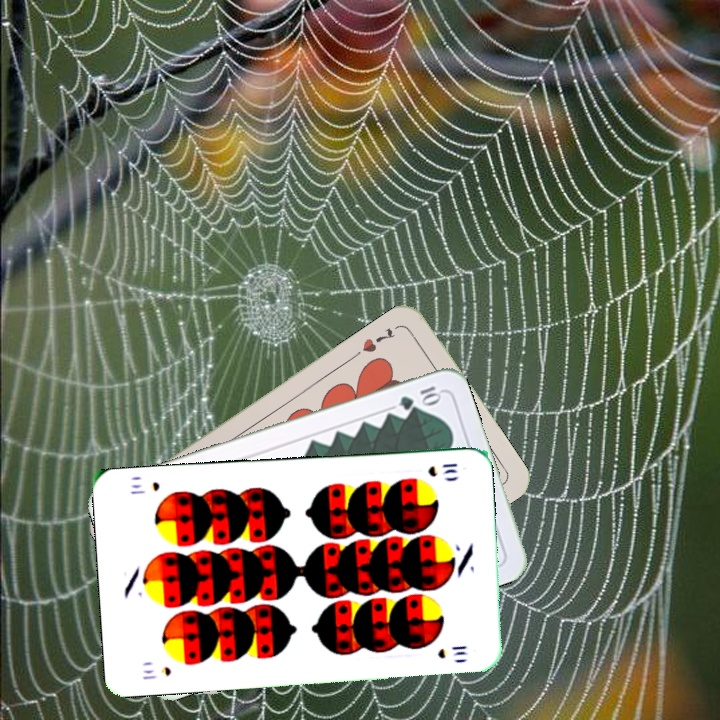G10: (395, 382, 444, 413)
H7: (358, 323, 398, 356)
S10: (424, 459, 460, 479), (138, 662, 173, 682)
